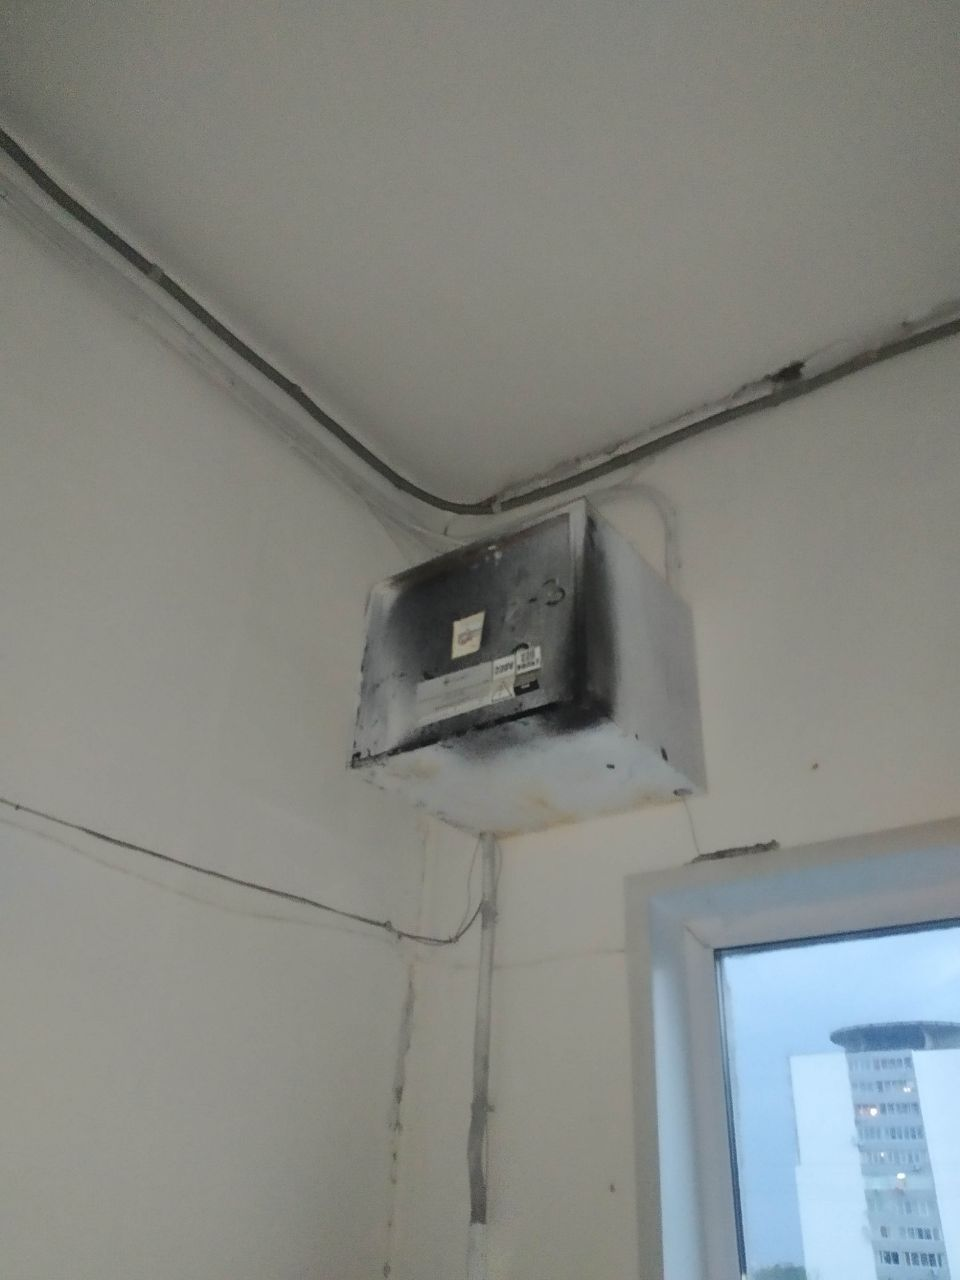shta-9m: (336, 490, 724, 845)
